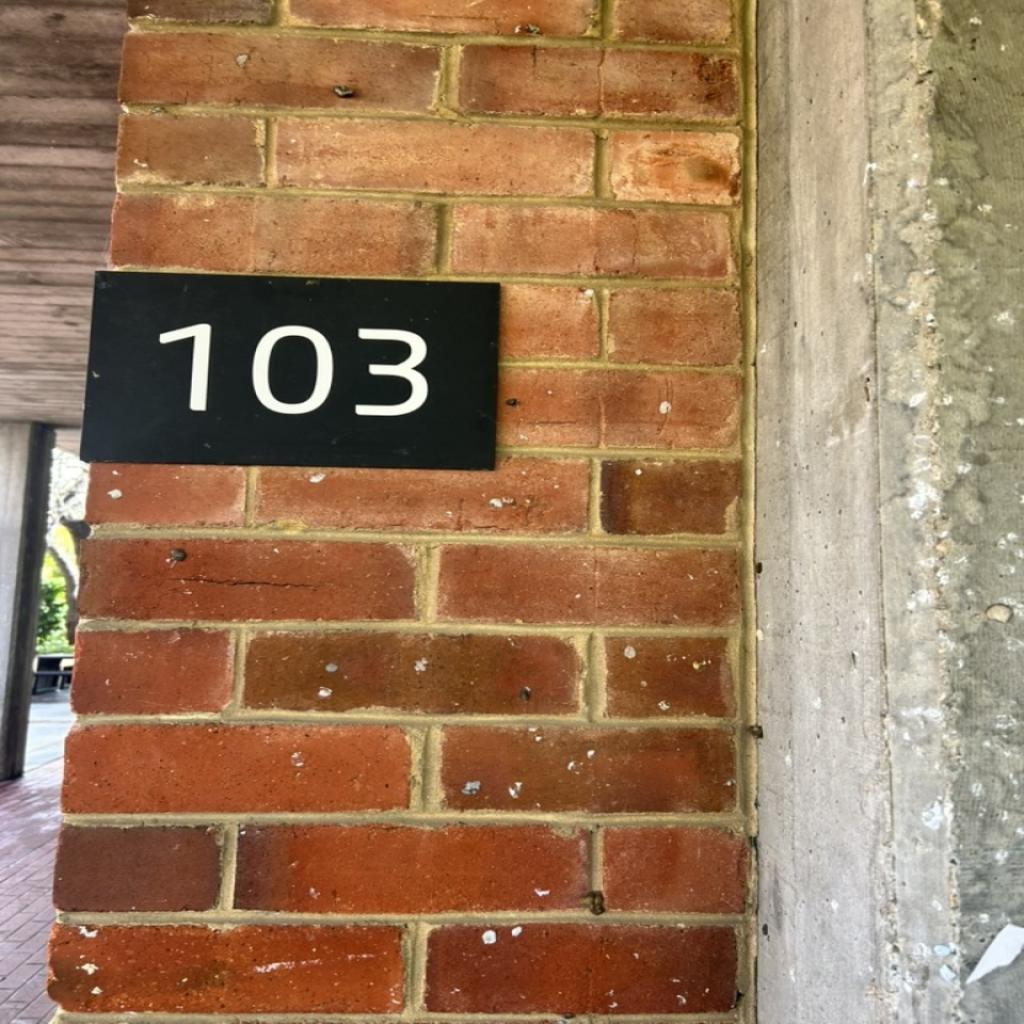BuildingCodes: (154, 314, 434, 420)
